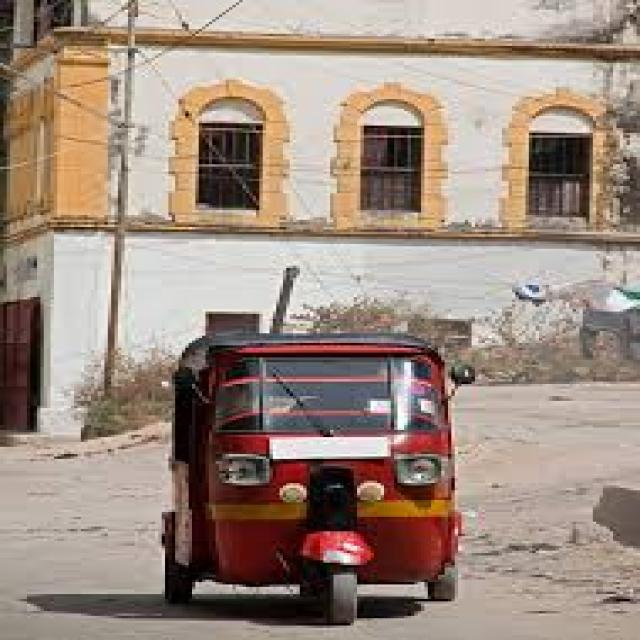tuktuk: (125, 224, 493, 632)
